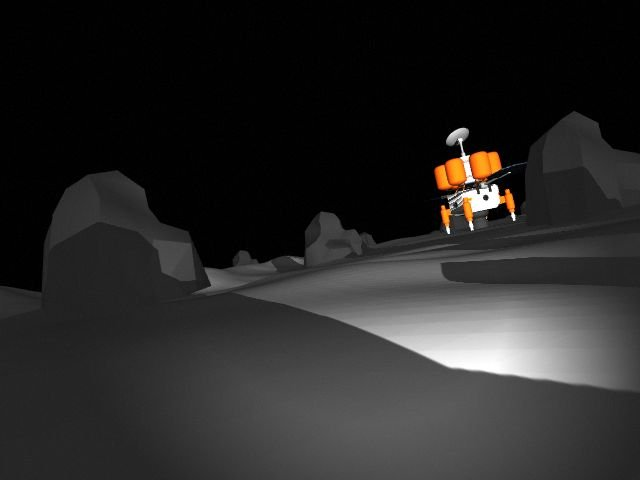homebase: (408, 125, 532, 236)
